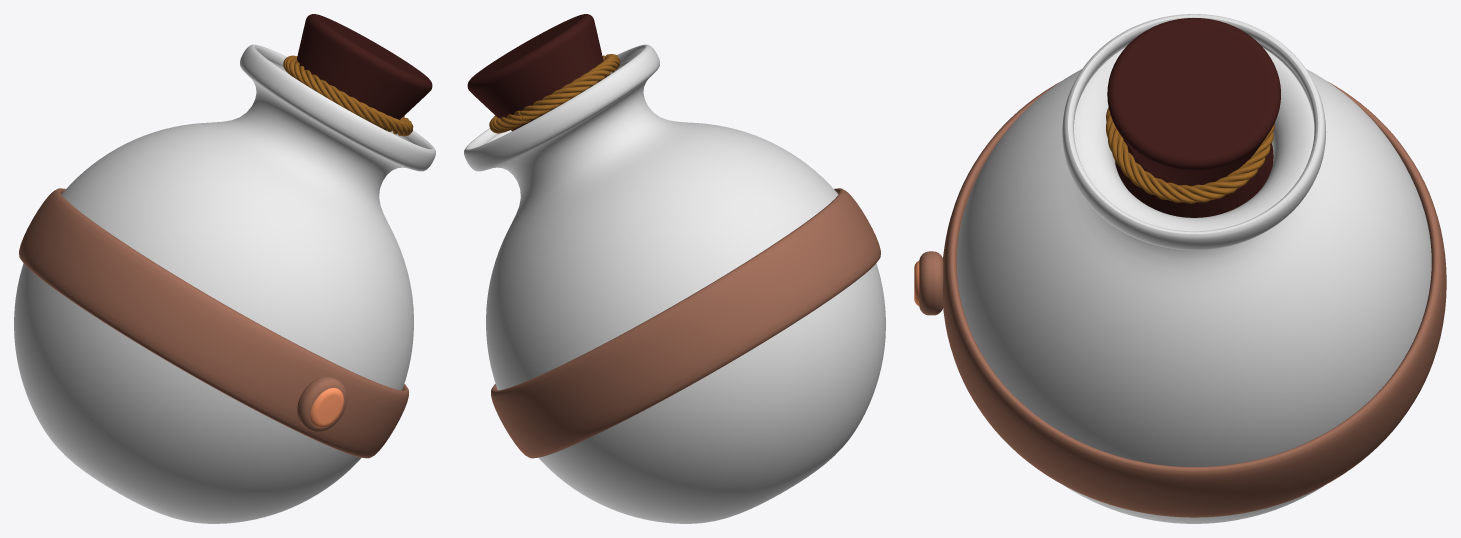
The model's file is Potion.fbx.
3 renders of one model, left to right at view 1: azimuth 30°, elevation 25°; view 2: azimuth 150°, elevation 25°; view 3: azimuth 270°, elevation 25°, orthographic. The views are drawn at different scales.
Parts seen in each view (by area): view 1: Sphere.001, Sphere.002, Cylinder.001, Circle.001_Circle.006, Cylinder.002, Cylinder.003; view 2: Sphere.001, Sphere.002, Cylinder.001, Circle.001_Circle.006; view 3: Sphere.001, Sphere.002, Cylinder.001, Circle.001_Circle.006, Cylinder.002.
Part boxes in pixels (x1,y1,x2,y2): Sphere.001: (14, 44, 435, 523); Sphere.002: (19, 188, 408, 458); Cylinder.001: (297, 14, 432, 130); Circle.001_Circle.006: (283, 55, 413, 136); Cylinder.002: (297, 376, 347, 432); Cylinder.003: (310, 388, 343, 427); Sphere.001: (464, 44, 885, 523); Sphere.002: (491, 188, 880, 458); Cylinder.001: (467, 14, 607, 131); Circle.001_Circle.006: (489, 54, 620, 133); Sphere.001: (956, 14, 1431, 523); Sphere.002: (943, 81, 1446, 517); Cylinder.001: (1107, 18, 1280, 217); Circle.001_Circle.006: (1106, 107, 1274, 203); Cylinder.002: (919, 251, 943, 315).
Size of the model in its own units: 112 by 128 by 113.
